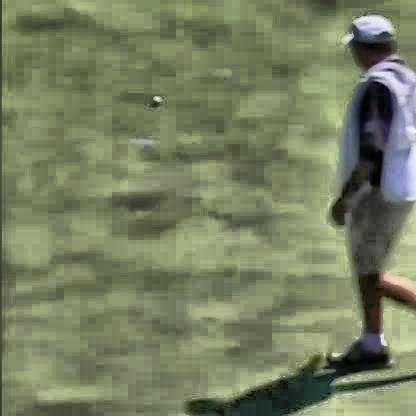golfball: (151, 92, 161, 103)
